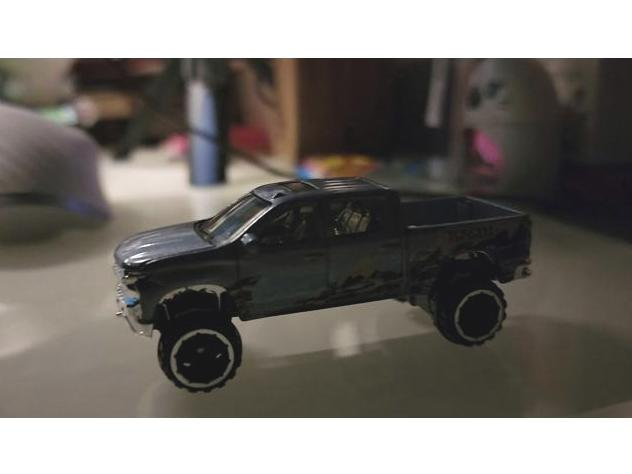toy-car: (113, 176, 533, 395)
